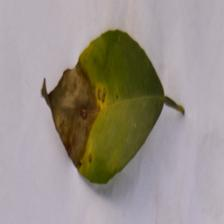black spot: (39, 54, 104, 161)
